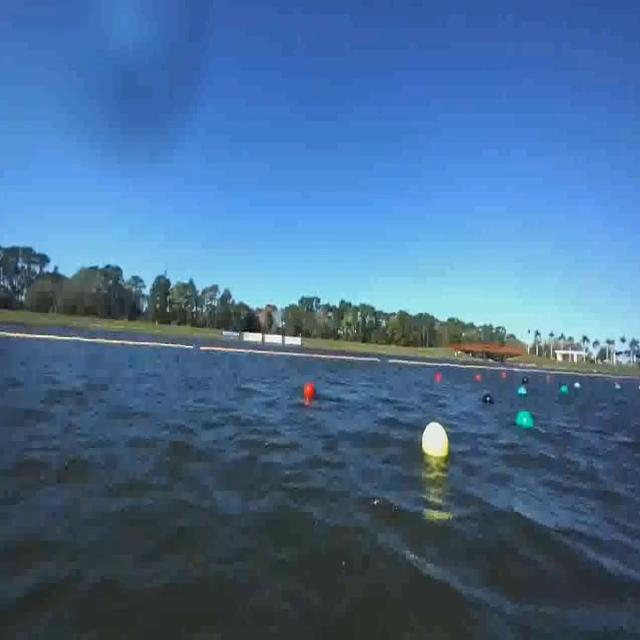black-buoy: (482, 393, 495, 405)
green-buoy: (514, 412, 532, 430), (516, 384, 526, 394)
red-buoy: (303, 381, 314, 397), (306, 383, 316, 400), (435, 372, 442, 381), (474, 375, 481, 383)
yellow-buoy: (422, 424, 449, 461)
